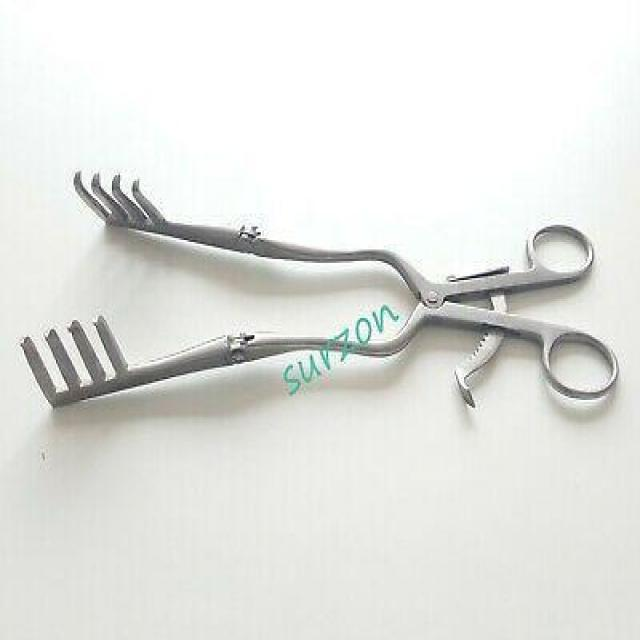Weitlaner: (16, 164, 624, 414)
